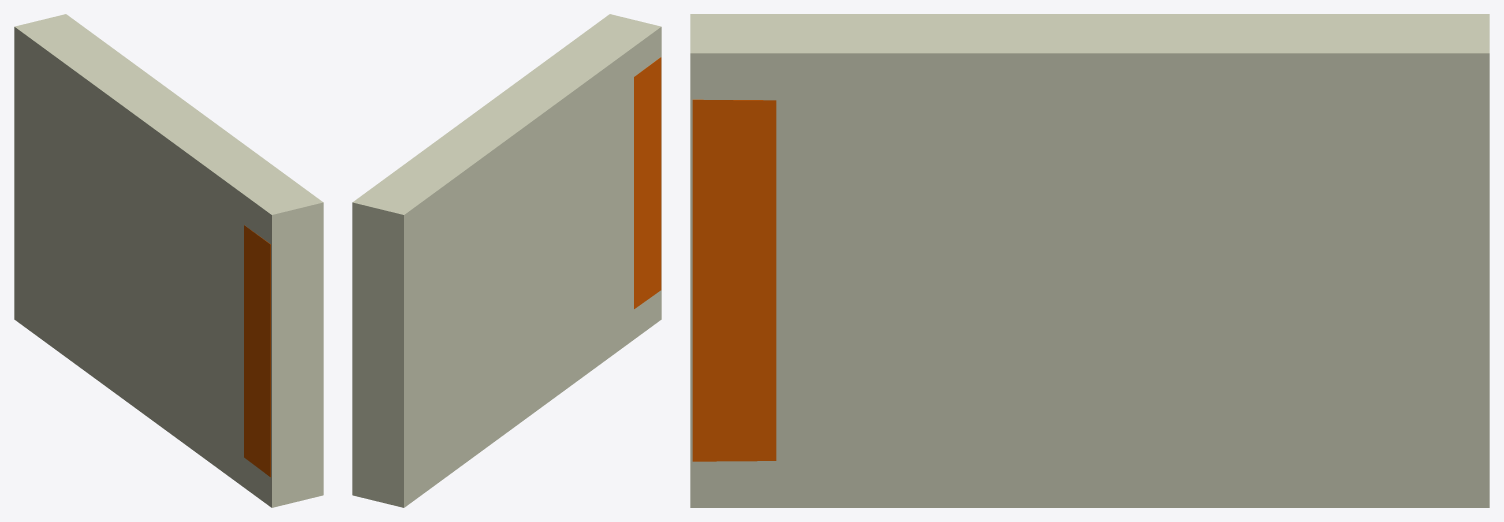
The model's file is Sign.fbx.
3 renders of one model, left to right at view 1: azimuth 30°, elevation 25°; view 2: azimuth 150°, elevation 25°; view 3: azimuth 270°, elevation 25°, orthographic. The views are drawn at different scales.
Parts seen in each view (by area): view 1: Cube.001; view 2: Cube.001; view 3: Cube.001.
Boxes of the visible parts, x1,y1,x2,y2 form: Cube.001: (14, 14, 323, 507); Cube.001: (352, 14, 661, 507); Cube.001: (690, 14, 1489, 507).
Size of the model in its own units: 23.66 by 126 by 201.
